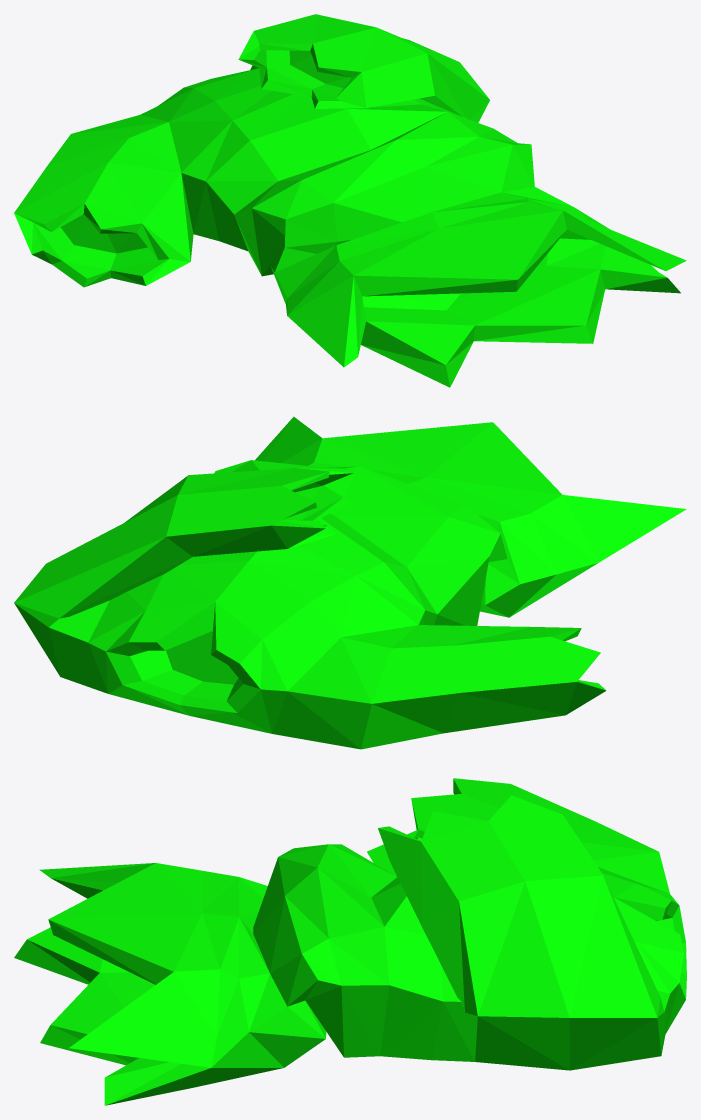
File: SM_Armor_Chainmail_A_Placed_Fantasy.fbx
The picture shows the model from 3 angles, top to bottom: view 1: azimuth 30°, elevation 25°; view 2: azimuth 150°, elevation 25°; view 3: azimuth 270°, elevation 25°; orthographic projection. The views are drawn at different scales.
Visible parts, largest first — view 1: armor-chainmail-a-placed-fantasy; view 2: armor-chainmail-a-placed-fantasy; view 3: armor-chainmail-a-placed-fantasy.
Boxes of the visible parts, <box> form: armor-chainmail-a-placed-fantasy: <box>14,14,686,387</box>; armor-chainmail-a-placed-fantasy: <box>14,416,686,749</box>; armor-chainmail-a-placed-fantasy: <box>14,778,686,1105</box>.
Size of the model in its own units: 0.5876 by 0.2017 by 0.6475.
